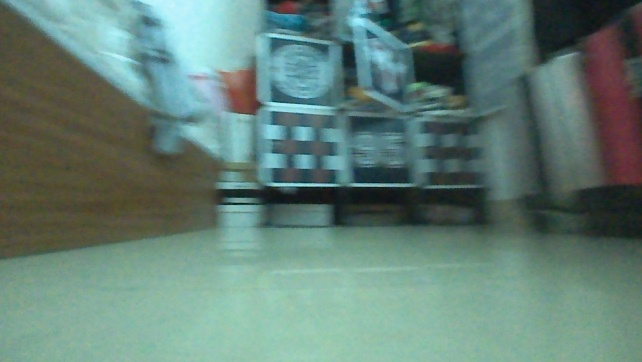bed1: (0, 0, 233, 262)
